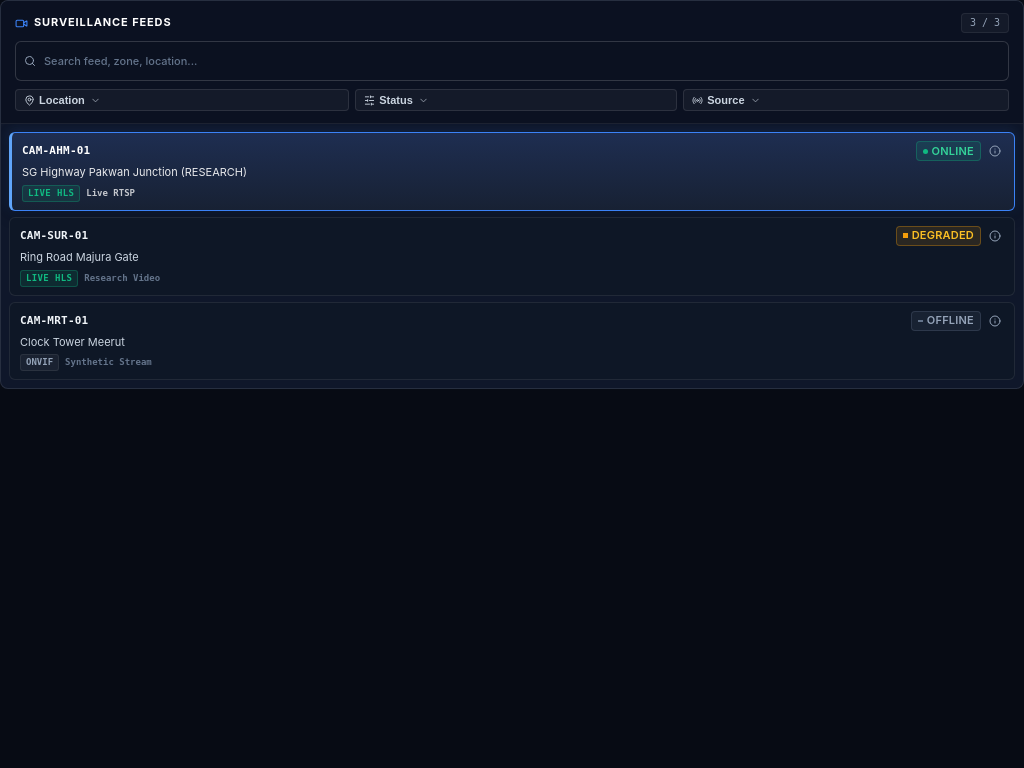
Test: Live CCTV Monitoring Page & Components › Scalable Dynamic Location & Multi-faceted Filtering (Part 2) › populates state and city options dynamically from camera dataset
Note: Open location dropdown
What coordinates should you click on to do the following:
click the button with test id "live-filter-dropdown-location"
I would click on:
 (62, 100)
Its box is [15,89,349,111].
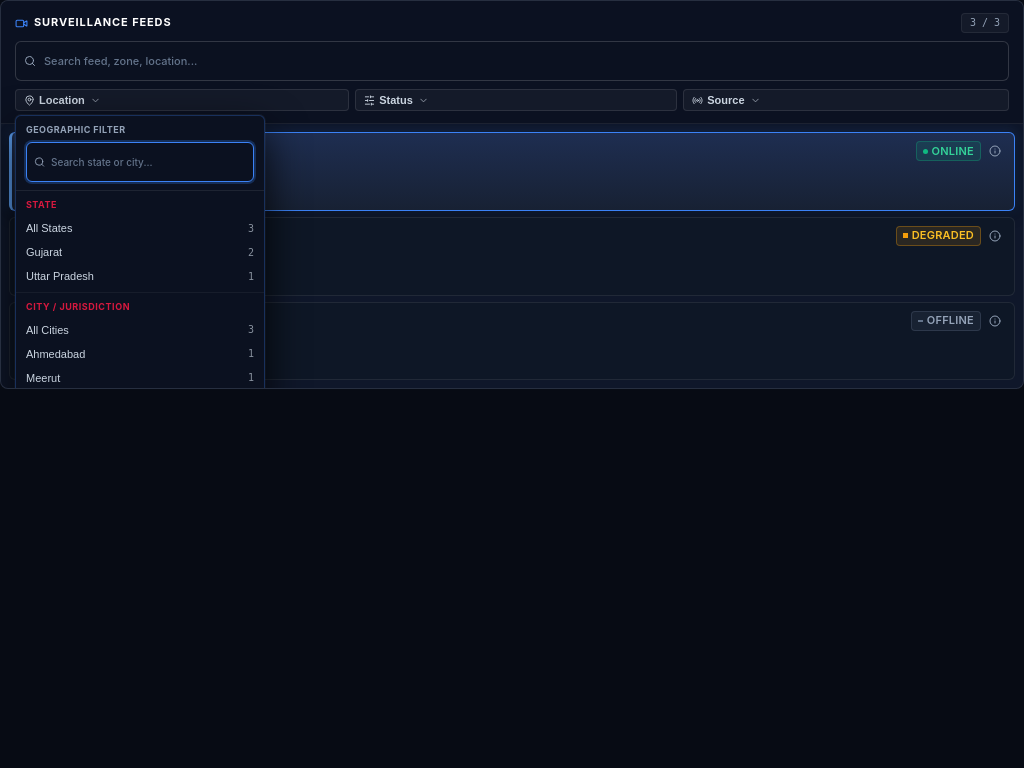
Expected: the button with test id "live-filter-state-all" is shown, [16,216,264,240]
Expected: the button with test id "live-filter-state-gujarat" is shown, [16,240,264,264]
Expected: the button with test id "live-filter-state-uttar-pradesh" is shown, [16,264,264,288]
